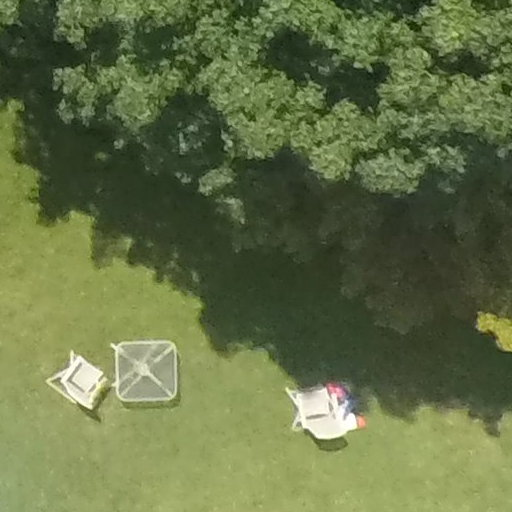chair: (29, 344, 112, 415), (283, 381, 345, 456)
table: (101, 329, 183, 413)
toy: (325, 378, 353, 402)
